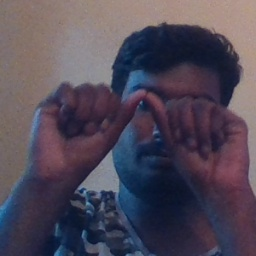A: (62, 75, 221, 186)
